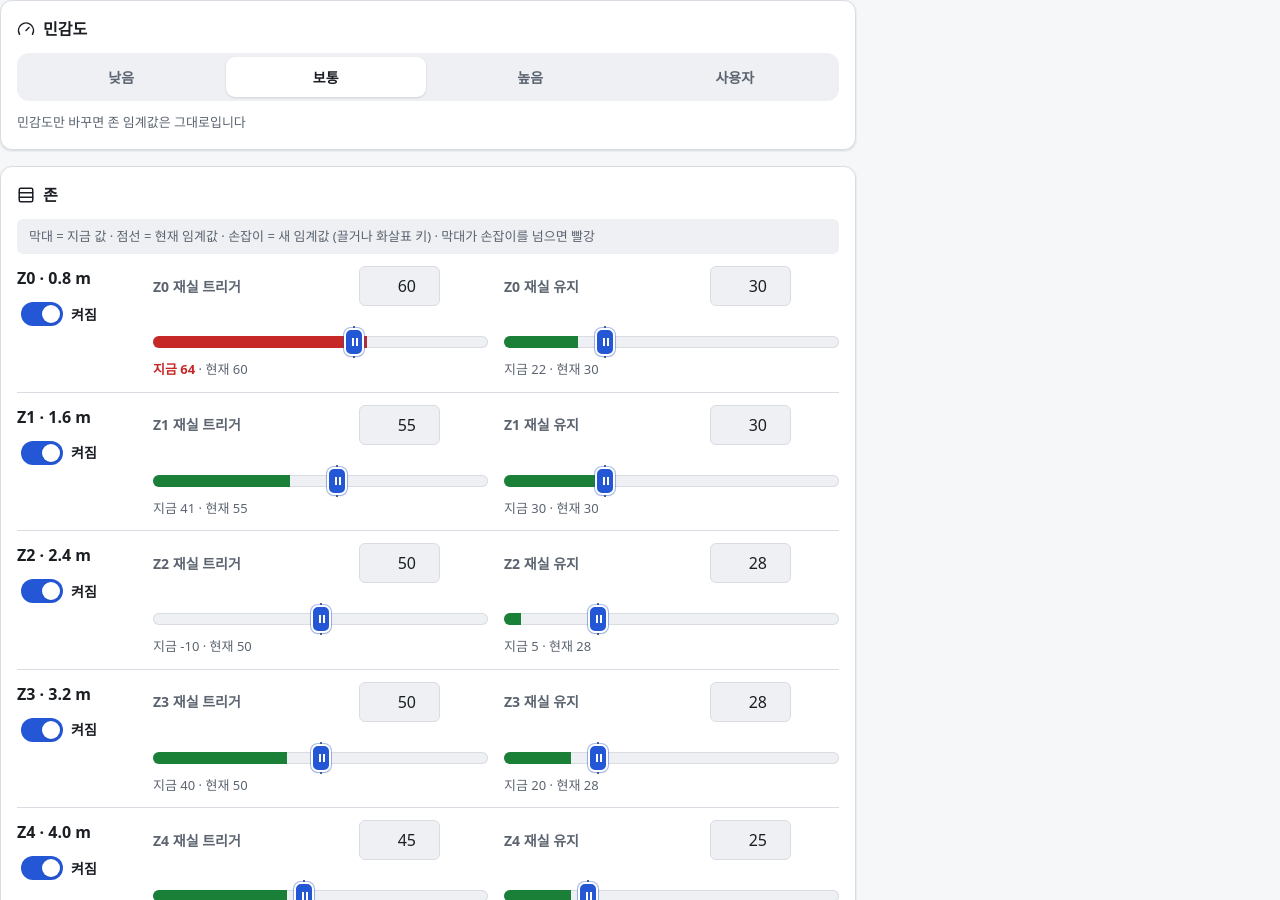
SettingsTab › dragging back to the device value removes the change and the bar
Press the mouse on the slider named "Z0 재실 트리거" below "Z0 재실 트리거" at {"x": 320, "y": 342}, box [153, 326, 488, 358]
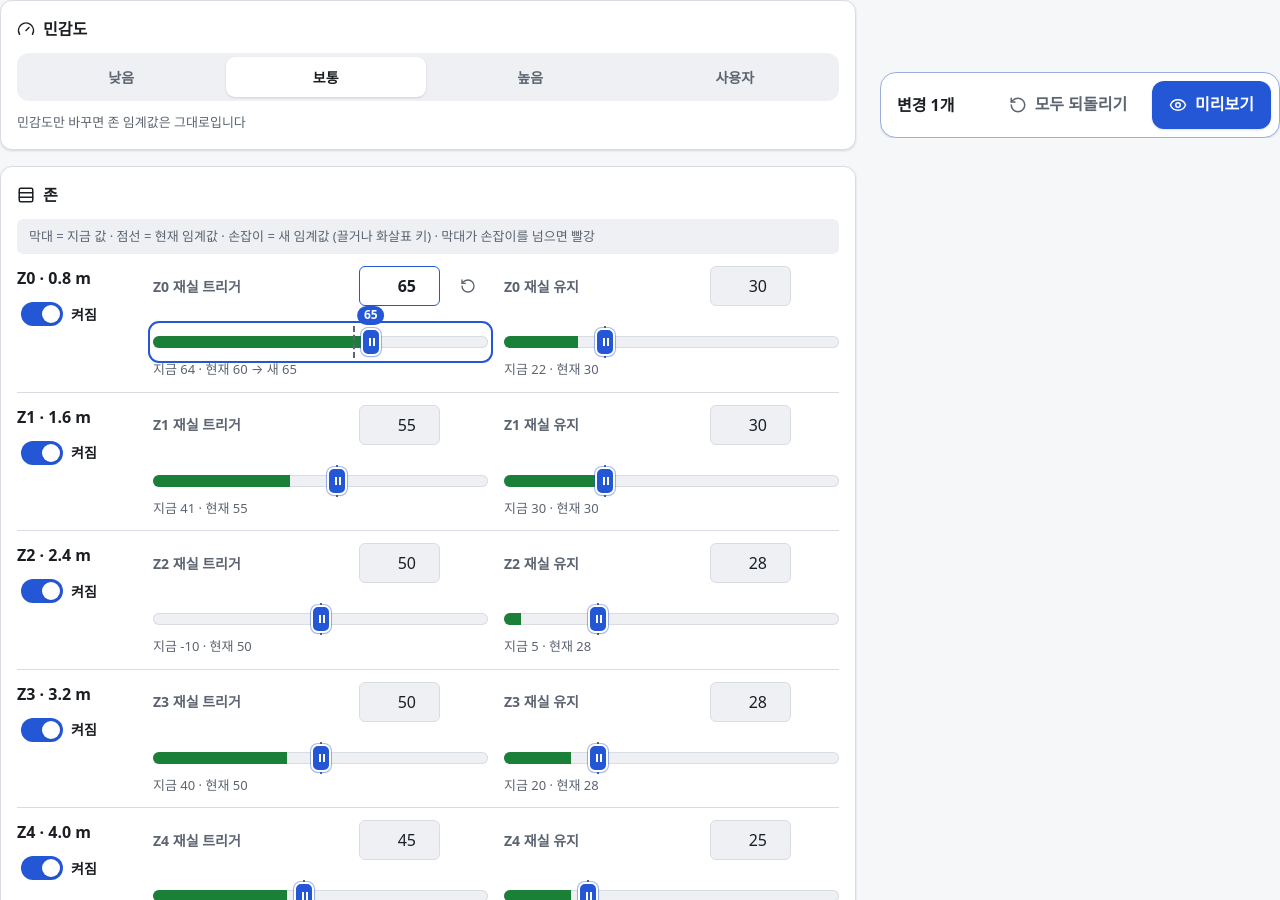
Result: the text "변경 1개" is shown at [897, 93, 954, 117]
Press the mouse on the slider named "Z0 재실 트리거" at {"x": 320, "y": 342}, box [153, 326, 488, 358]
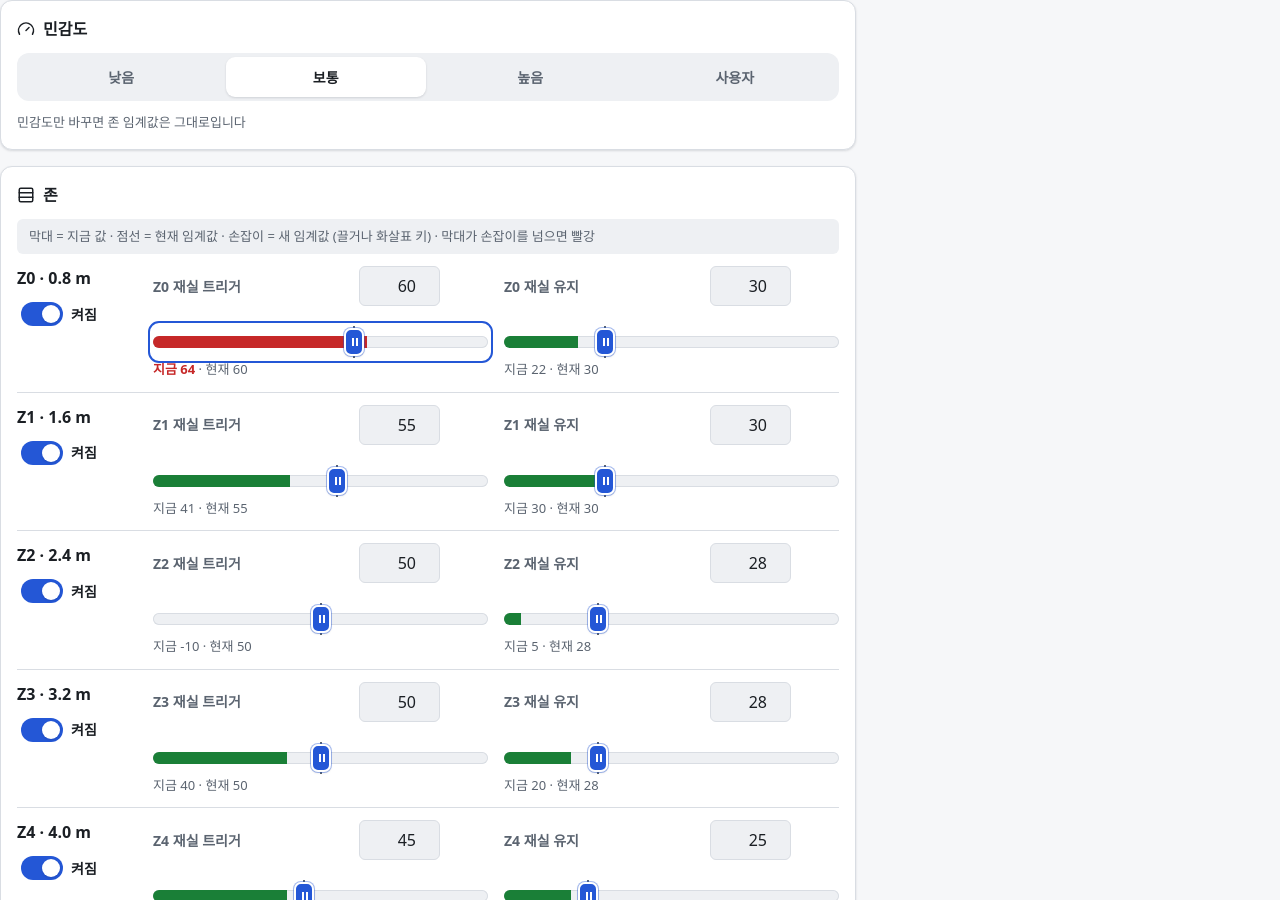
Result: the text "변경 1개" is gone
